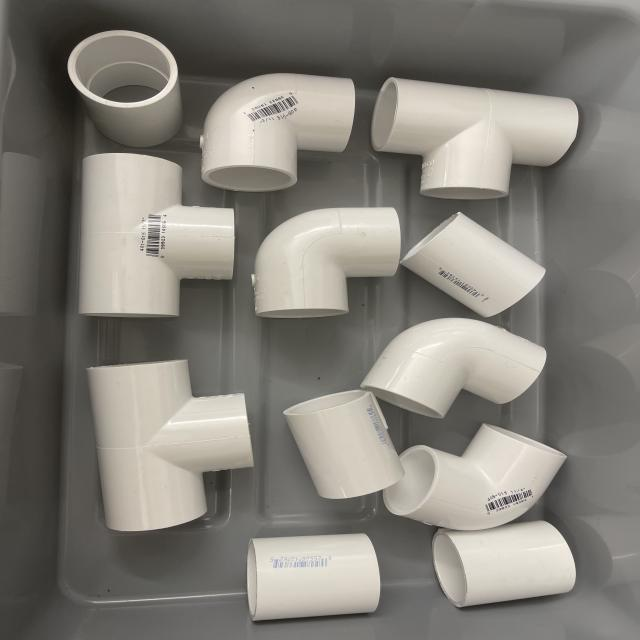L Joint: (360, 317, 548, 421), (199, 74, 359, 194), (387, 431, 566, 533), (254, 208, 402, 321)
T Joint: (85, 359, 255, 536), (78, 153, 235, 320), (372, 78, 582, 197)
